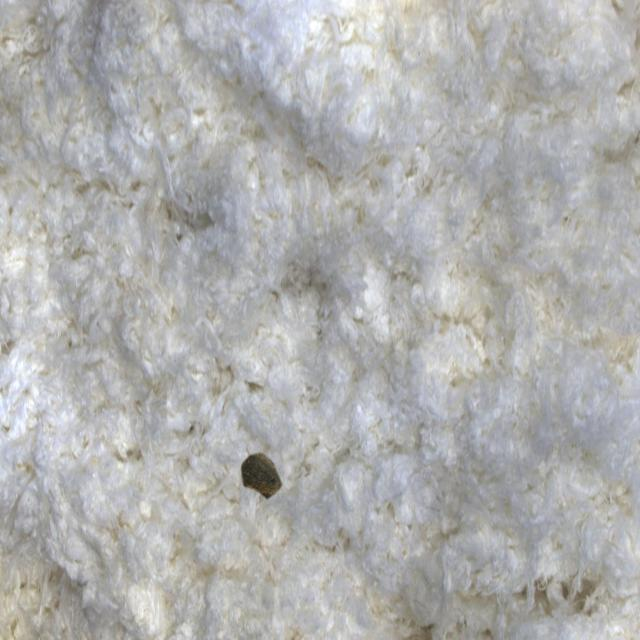dust: (230, 428, 304, 529)
